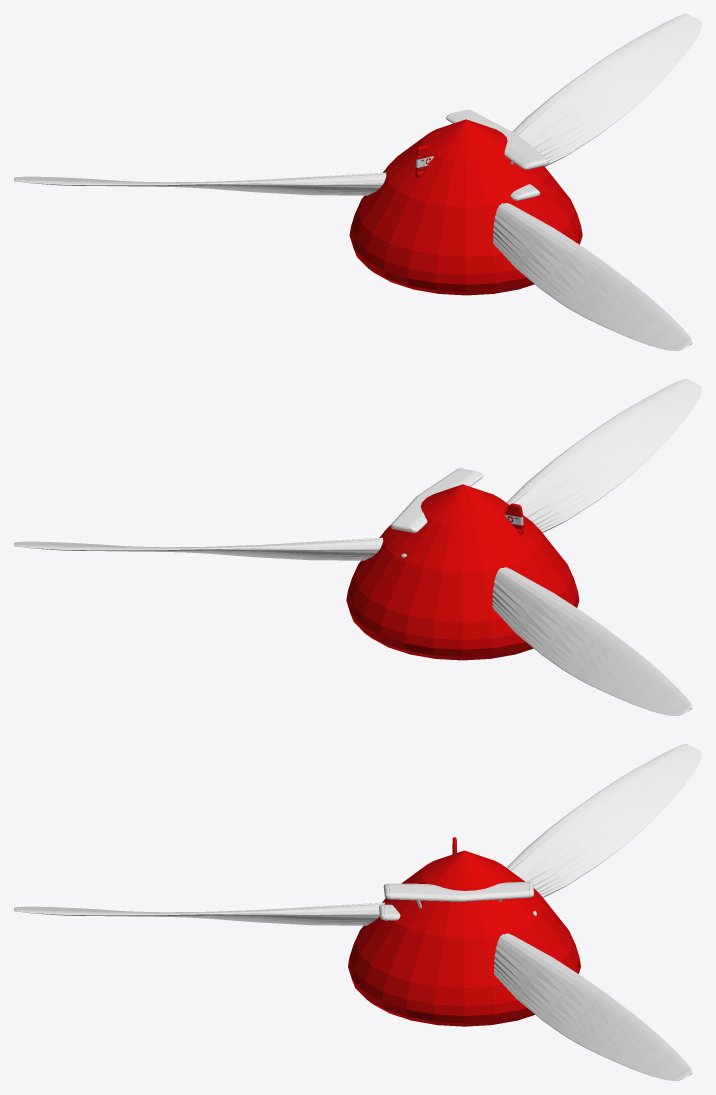
3 views of the same model, one above another, from view 1: azimuth 30°, elevation 25°; view 2: azimuth 150°, elevation 25°; view 3: azimuth 270°, elevation 25° (orthographic).
Visible parts, largest first — view 1: Nose_Cone1_M_0020_Red_0, Prop_02, Prop_03, Prop_01, Mesh48_M_0131_Silver_0; view 2: Nose_Cone1_M_0020_Red_0, Prop_01, Prop_02, Prop_03, Mesh48_M_0131_Silver_0; view 3: Nose_Cone1_M_0020_Red_0, Prop_03, Prop_01, Prop_02, Mesh48_M_0131_Silver_0, Mesh71_M_0131_Silver_0.
Part boxes in pixels (x1,y1,x2,y2): Nose_Cone1_M_0020_Red_0: (349,119,582,295); Prop_02: (493,203,692,350); Prop_03: (512,14,701,166); Prop_01: (14,172,386,195); Mesh48_M_0131_Silver_0: (505,133,546,162); Nose_Cone1_M_0020_Red_0: (346,484,579,660); Prop_01: (492,567,692,715); Prop_02: (506,379,701,532); Prop_03: (14,537,383,560); Mesh48_M_0131_Silver_0: (419,469,474,496); Nose_Cone1_M_0020_Red_0: (348,850,580,1026); Prop_03: (494,933,692,1080); Prop_01: (506,744,701,897); Prop_02: (14,902,384,925); Mesh48_M_0131_Silver_0: (388,885,459,901); Mesh71_M_0131_Silver_0: (459,883,529,901).
Bounding box in the file's own units: 45.52 × 8.54 × 39.74.
